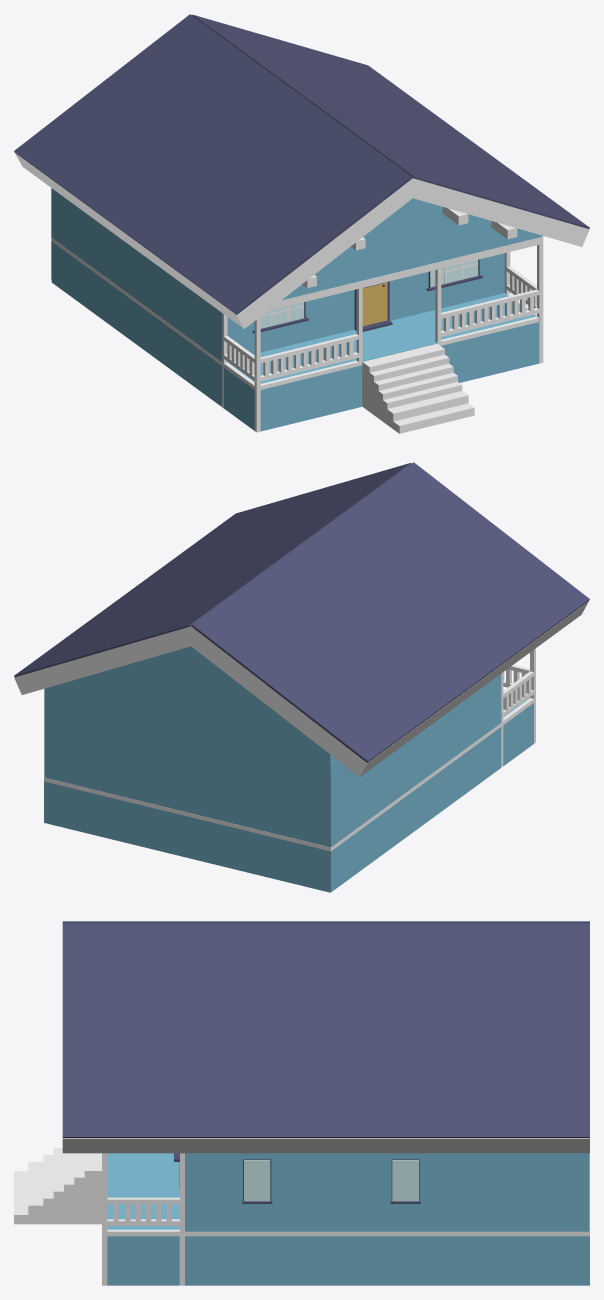
Rendered from casa.gltf.
The picture shows the model from 3 angles, top to bottom: view 1: azimuth 30°, elevation 25°; view 2: azimuth 150°, elevation 25°; view 3: azimuth 270°, elevation 25°; orthographic projection. The views are drawn at different scales.
Visible parts, largest first — view 1: Cube_4_3, Cube_1_5, Cube_1_4, Cube_5_5, Cube, Cube_1, Cube_2_4, Cube_5_4, Cube_3_4, Cube_15_4, Cube_4_4, Cube_1_13 (+15 smaller); view 2: Cube_4_3, Cube_1_5, Cube_1_4, Cube_5_5, Cube, Cube_5_4, Cube_2_4, Cube_1, Cube_3_4, Cube_4_4, Cube_5_3, Cube_6_2; view 3: Cube_1_4, Cube_1_5, Cube_5_5, Cube_1, Cube_15_4, Cube_4_3, Cube_12_2, Cube_12_3, Cube_2_15, Cube_3_13, Cube_6_7, Cube_5_6 (+5 smaller).
Part boxes in pixels (x1=…): Cube_4_3: x1=14, y1=14, x2=412, y2=314; Cube_1_5: x1=51, y1=188, x2=504, y2=403; Cube_1_4: x1=192, y1=15, x2=589, y2=228; Cube_5_5: x1=51, y1=280, x2=539, y2=431; Cube: x1=15, y1=153, x2=420, y2=328; Cube_1: x1=413, y1=178, x2=589, y2=246; Cube_2_4: x1=301, y1=223, x2=524, y2=286; Cube_5_4: x1=282, y1=230, x2=542, y2=300; Cube_3_4: x1=325, y1=215, x2=491, y2=266; Cube_15_4: x1=362, y1=391, x2=468, y2=428; Cube_4_4: x1=363, y1=207, x2=472, y2=240; Cube_1_13: x1=362, y1=382, x2=462, y2=418; Cube_4_3: x1=191, y1=462, x2=589, y2=762; Cube_1_5: x1=44, y1=674, x2=501, y2=889; Cube_1_4: x1=14, y1=463, x2=411, y2=676; Cube_5_5: x1=44, y1=698, x2=533, y2=892; Cube: x1=190, y1=601, x2=588, y2=776; Cube_5_4: x1=44, y1=687, x2=336, y2=773; Cube_2_4: x1=46, y1=679, x2=332, y2=757; Cube_1: x1=14, y1=626, x2=197, y2=694; Cube_3_4: x1=73, y1=671, x2=304, y2=737; Cube_4_4: x1=106, y1=663, x2=279, y2=715; Cube_5_3: x1=134, y1=655, x2=251, y2=693; Cube_6_2: x1=157, y1=649, x2=228, y2=675; Cube_1_4: x1=62, y1=924, x2=589, y2=1138; Cube_1_5: x1=185, y1=1153, x2=589, y2=1231; Cube_5_5: x1=107, y1=1153, x2=589, y2=1285; Cube_1: x1=62, y1=1138, x2=589, y2=1153; Cube_15_4: x1=28, y1=1162, x2=101, y2=1224; Cube_4_3: x1=62, y1=921, x2=589, y2=923; Cube_12_2: x1=392, y1=1160, x2=418, y2=1201; Cube_12_3: x1=244, y1=1160, x2=270, y2=1201; Cube_2_15: x1=53, y1=1148, x2=101, y2=1205; Cube_3_13: x1=64, y1=1153, x2=101, y2=1203; Cube_6_7: x1=14, y1=1171, x2=28, y2=1224; Cube_5_6: x1=84, y1=1153, x2=101, y2=1189.
Size of the model in its own units: 9.43 by 5.97 by 11.18.
